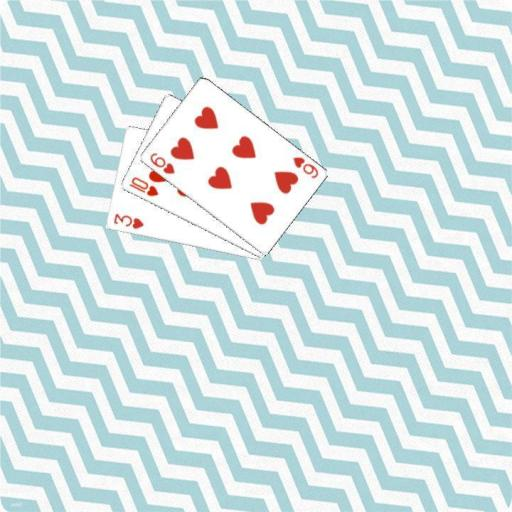card-corner: (126, 174, 160, 198), (146, 149, 176, 176), (290, 154, 320, 180), (110, 210, 145, 230)
